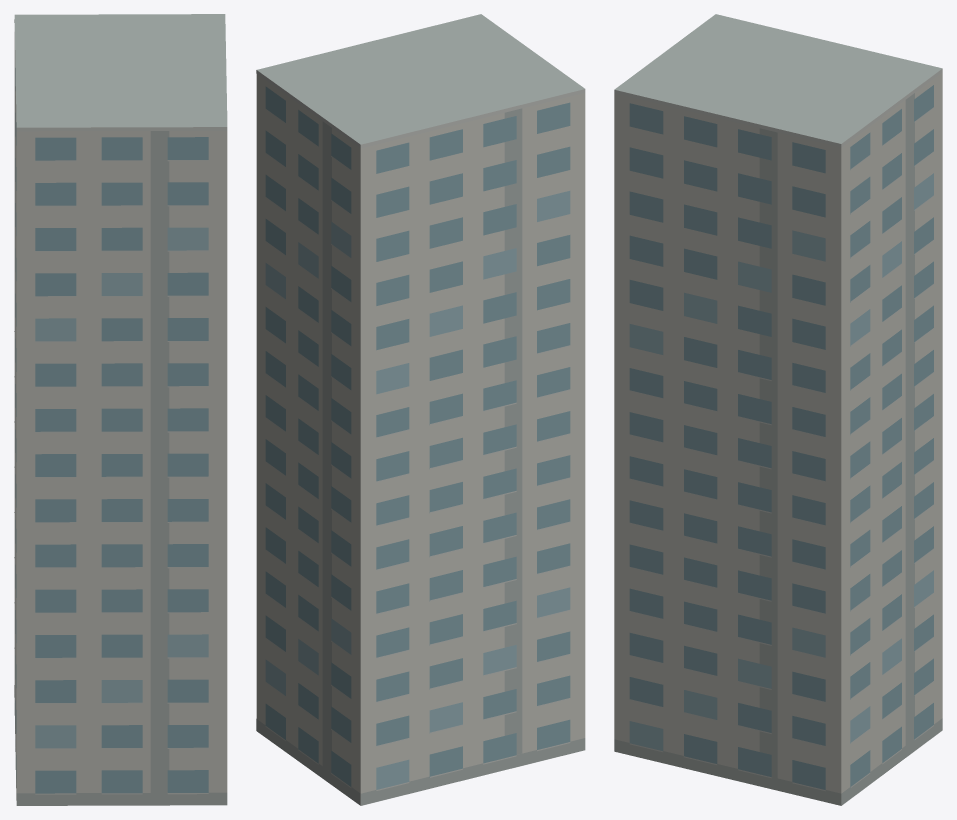
Rendered from residential-1b8bbfd0-a96b-4a9f-a234-655723e63f07.glb.
3 views of the same model, side by side, from view 1: azimuth 30°, elevation 25°; view 2: azimuth 150°, elevation 25°; view 3: azimuth 270°, elevation 25° (orthographic). The views are drawn at different scales.
Visible parts, largest first — view 1: residential-1b8bbfd0-a96b-4a9f-a234-655723e63f07.tmp; view 2: residential-1b8bbfd0-a96b-4a9f-a234-655723e63f07.tmp; view 3: residential-1b8bbfd0-a96b-4a9f-a234-655723e63f07.tmp.
Boxes of the visible parts, x1,y1,x2,y2 form: residential-1b8bbfd0-a96b-4a9f-a234-655723e63f07.tmp: [14, 14, 227, 805]; residential-1b8bbfd0-a96b-4a9f-a234-655723e63f07.tmp: [256, 14, 585, 805]; residential-1b8bbfd0-a96b-4a9f-a234-655723e63f07.tmp: [614, 14, 942, 805].
Bounding box in the file's own units: 18.13 × 43 × 19.35.
